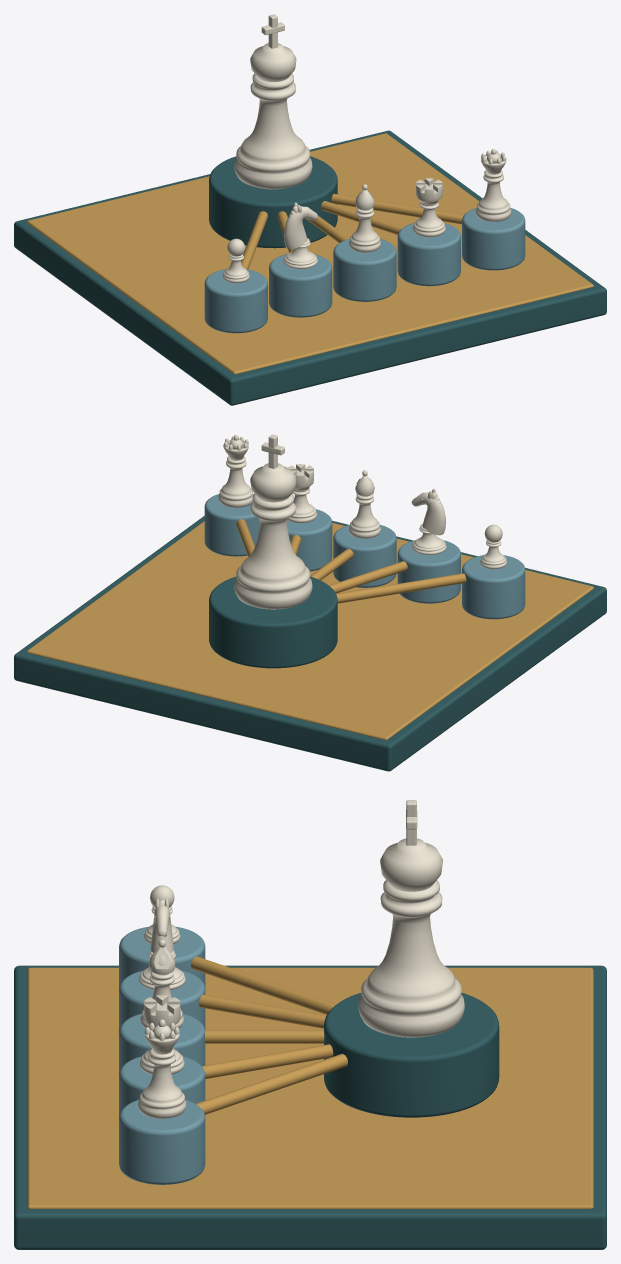
Rendered from chess_arsenal.h.glb.
3 views of the same model, one above another, from view 1: azimuth 30°, elevation 25°; view 2: azimuth 150°, elevation 25°; view 3: azimuth 270°, elevation 25° (orthographic). The views are drawn at different scales.
Parts seen in each view (by area): view 1: Cube.001, Cube, K.002, Cylinder, Cylinder.002, Cylinder.006, Cylinder.008, Cylinder.004, Cylinder.010, Q.002, N.002, R.002 (+5 smaller); view 2: Cube.001, Cube, Cylinder, K.002, Cylinder.002, Cylinder.006, Cylinder.004, Cylinder.010, Cylinder.008, Q.002, N.002, Cylinder.001 (+5 smaller); view 3: Cube.001, Cube, Cylinder, K.002, Cylinder.010, Q.002, Cylinder.002, Cylinder.006, Cylinder.004, Cylinder.008, Cylinder.009, Cylinder.001 (+7 smaller).
Boxes of the visible parts, left/top/right/bottom form: Cube.001: left=27, top=133, right=593, bottom=374; Cube: left=14, top=130, right=606, bottom=405; K.002: left=234, top=14, right=312, bottom=189; Cylinder: left=209, top=156, right=337, bottom=248; Cylinder.002: left=204, top=269, right=267, bottom=333; Cylinder.006: left=333, top=239, right=396, bottom=301; Cylinder.008: left=397, top=223, right=460, bottom=286; Cylinder.004: left=269, top=254, right=332, bottom=317; Cylinder.010: left=462, top=208, right=525, bottom=270; Q.002: left=476, top=149, right=511, bottom=221; N.002: left=283, top=202, right=318, bottom=268; R.002: left=413, top=178, right=445, bottom=237; Cube.001: left=27, top=521, right=593, bottom=740; Cube: left=14, top=516, right=606, bottom=771; Cylinder: left=209, top=576, right=337, bottom=668; K.002: left=234, top=434, right=312, bottom=609; Cylinder.002: left=462, top=555, right=525, bottom=619; Cylinder.006: left=333, top=525, right=396, bottom=587; Cylinder.004: left=397, top=540, right=460, bottom=603; Cylinder.010: left=204, top=494, right=259, bottom=556; Cylinder.008: left=287, top=509, right=332, bottom=571; Q.002: left=218, top=435, right=253, bottom=507; N.002: left=411, top=488, right=446, bottom=554; Cylinder.001: left=336, top=573, right=466, bottom=603; Cube.001: left=27, top=967, right=593, bottom=1208; Cube: left=14, top=965, right=606, bottom=1249; Cylinder: left=324, top=993, right=499, bottom=1117; K.002: left=358, top=800, right=464, bottom=1037; Cylinder.010: left=119, top=1099, right=205, bottom=1184; Q.002: left=138, top=1019, right=186, bottom=1118; Cylinder.002: left=119, top=926, right=205, bottom=988; Cylinder.006: left=119, top=1013, right=205, bottom=1073; Cylinder.004: left=119, top=970, right=205, bottom=1031; Cylinder.008: left=119, top=1056, right=205, bottom=1116; Cylinder.009: left=196, top=1054, right=347, bottom=1114; Cylinder.001: left=191, top=956, right=336, bottom=1014.
Size of the model in its own units: 4.4 by 2.66 by 4.4.
